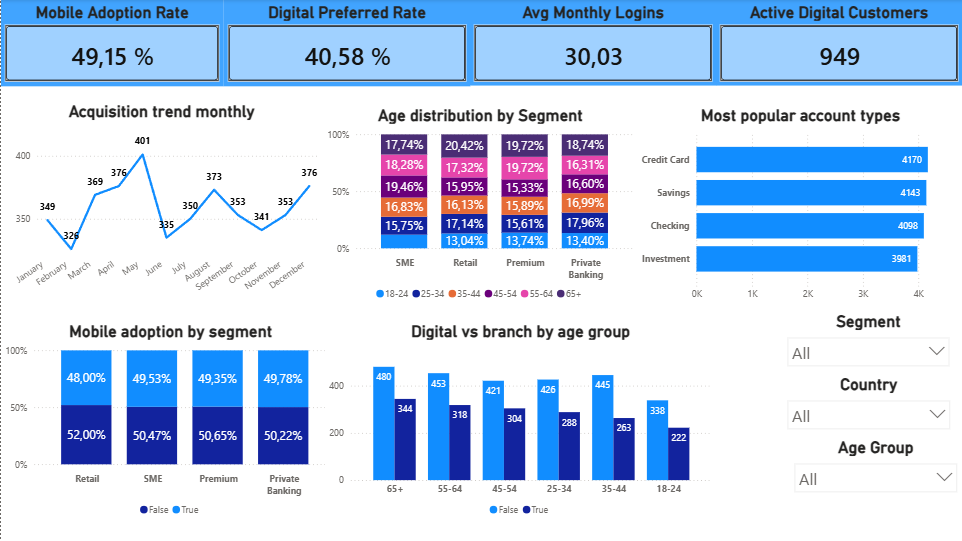

What the dashboard file says about the page in this screenshot:
{"tool":"powerbi","page":{"name":" Customer & Engagement","canvas":[1280,720],"ordinal":3},"visuals":[{"type":"cardVisual","title":"Mobile Adoption Rate","fields":{"Data":["gold_digital_summary.Mobile Rate"]},"box":[0,0,295.7,115.7],"z":0},{"type":"cardVisual","title":"Digital Preferred Rate","fields":{"Data":["gold_digital_summary.Digital Prefered Rate"]},"box":[295.7,0,327.1,115.7],"z":1000},{"type":"cardVisual","title":"Avg Monthly Logins","fields":{"Data":["Avg(gold_digital_summary.avg_monthly_logins)"]},"box":[622.9,0,327.1,115],"z":2000},{"type":"cardVisual","title":"Active Digital Customers","fields":{"Data":["gold_digital_summary.Actives Digital"]},"box":[950,0,327.1,115],"z":3000},{"type":"lineChart","title":"Acquisition trend monthly","fields":{"Category":["gold_customer_summary.registration_date.Variation.Date Hierarchy.Month"],"Y":["CountNonNull(gold_credit_summary.customer_id)"]},"box":[0,137.4,427.2,273.4],"z":4000},{"type":"hundredPercentStackedColumnChart","title":"Age distribution by Segment","fields":{"Y":["CountNonNull(gold gold_credit_summary.customer_id)"],"Series":["gold gold_customer_summary.age_bucket"],"Category":["gold gold_customer_summary.customer_segment"]},"box":[427.2,137.4,418.3,273.4],"z":5000},{"type":"hundredPercentStackedColumnChart","title":"Mobile adoption by segment","fields":{"Category":["gold_customer_summary.Segment"],"Series":["gold_digital_summary.is_mobile_user"],"Y":["CountNonNull(gold_digital_summary.is_mobile_user)"]},"box":[0,424.2,451.1,273.4],"z":6000},{"type":"clusteredBarChart","title":"Most popular account types","fields":{"Category":["gold_product_summary.account_type"],"Y":["CountNonNull(gold_product_summary.account_id)"]},"box":[845.5,137.4,434.7,273.4],"z":7000},{"type":"clusteredColumnChart","title":" Digital vs branch by age group","fields":{"Category":["gold_customer_summary.Age Group"],"Y":["CountNonNull(gold_credit_summary.customer_id)"],"Series":["gold_digital_summary.is_digital_preferred"]},"box":[430.2,424.2,519.8,273.4],"z":8000},{"type":"slicer","title":"Segment","fields":{"Values":["gold gold_customer_summary.Segment"]},"box":[1034.5,415.5,235,83.3],"z":9000},{"type":"slicer","title":"Country","fields":{"Values":["gold_credit_summary.country"]},"box":[1035.2,498.9,236,83.7],"z":10000},{"type":"slicer","title":"Age Group","fields":{"Values":["gold_customer_summary.Age Group"]},"box":[1044.1,582.6,236,83.7],"z":11000}]}

Visuals, with their boxes in screenshot pixels (x1, y1, x2, y2), scaled from the page's 1280x720 canvas onto the 962x541 screenshot:
"Mobile Adoption Rate" cardVisual: [0, 0, 222, 87]
"Digital Preferred Rate" cardVisual: [222, 0, 468, 87]
"Avg Monthly Logins" cardVisual: [468, 0, 714, 86]
"Active Digital Customers" cardVisual: [714, 0, 960, 86]
"Acquisition trend monthly" lineChart: [0, 103, 321, 309]
"Age distribution by Segment" hundredPercentStackedColumnChart: [321, 103, 635, 309]
"Mobile adoption by segment" hundredPercentStackedColumnChart: [0, 319, 339, 524]
"Most popular account types" clusteredBarChart: [635, 103, 961, 309]
" Digital vs branch by age group" clusteredColumnChart: [323, 319, 714, 524]
"Segment" slicer: [777, 312, 954, 375]
"Country" slicer: [778, 375, 955, 438]
"Age Group" slicer: [785, 438, 961, 501]
